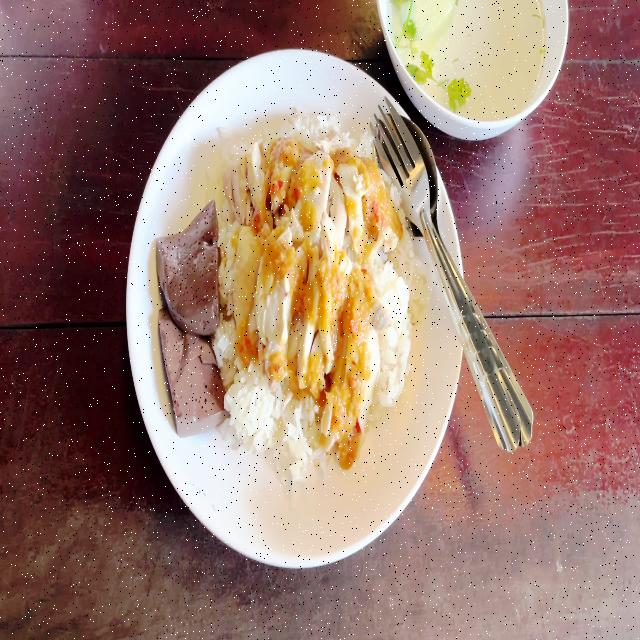boiled_chicken: (222, 147, 380, 411)
boiled_chicken_blood_jelly: (153, 299, 221, 427), (156, 200, 221, 329)
chicken_rice: (159, 124, 415, 482)
